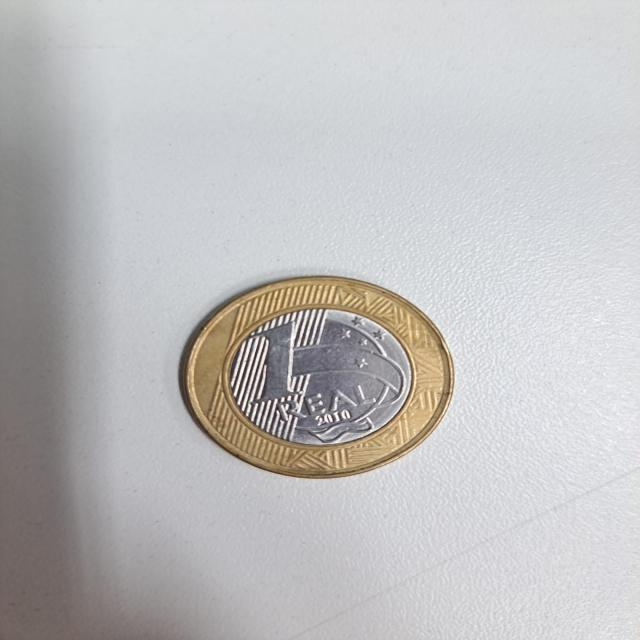1 real: (163, 270, 469, 486)
